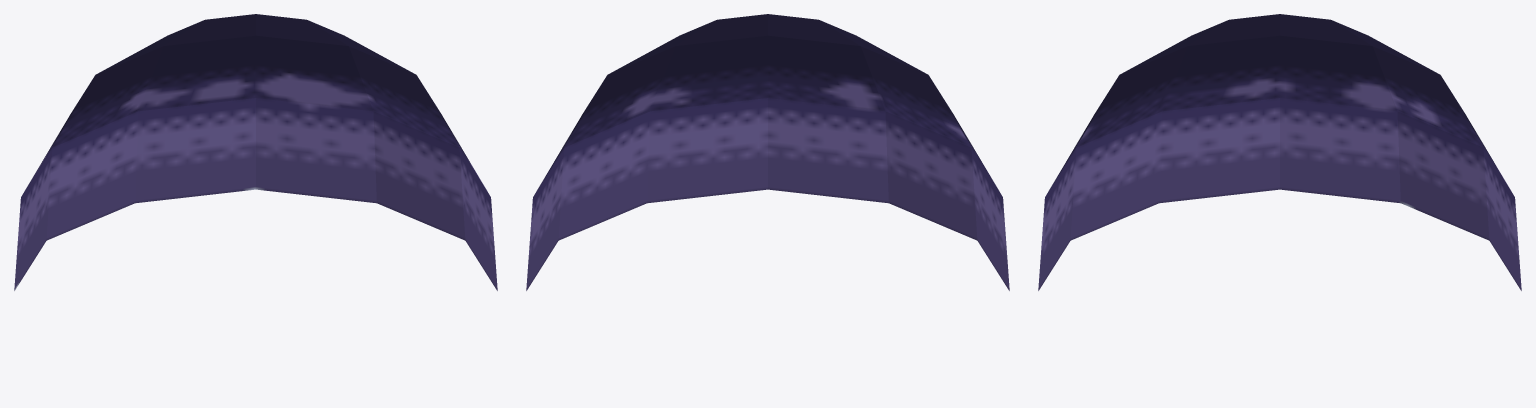
File: sky.backdrop.glb
The picture shows the model from 3 angles, left to right: view 1: azimuth 30°, elevation 25°; view 2: azimuth 150°, elevation 25°; view 3: azimuth 270°, elevation 25°; orthographic projection.
Visible parts, largest first — view 1: kit_shell_sky; view 2: kit_shell_sky; view 3: kit_shell_sky.
Part boxes in pixels (left/top/right/bottom): kit_shell_sky: left=14, top=14, right=497, bottom=290; kit_shell_sky: left=526, top=14, right=1009, bottom=290; kit_shell_sky: left=1038, top=14, right=1521, bottom=290.
Bounding box in the file's own units: 791 × 460 × 791.
1 material, 1 textured.
